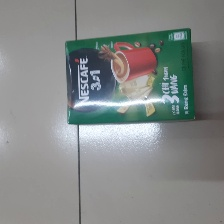Nes Rang: (64, 27, 198, 128)
